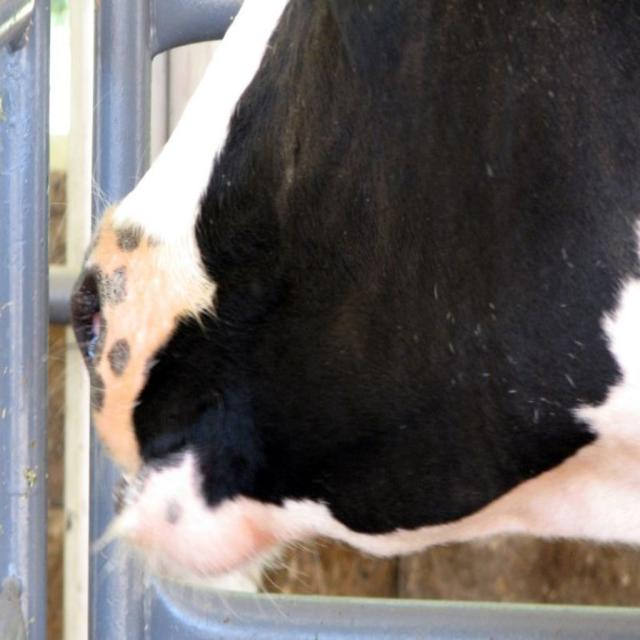Cattle: (68, 0, 639, 625)
